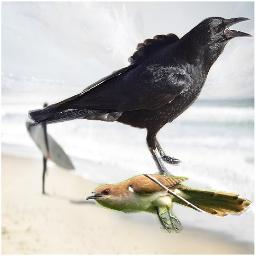Crow: (28, 15, 253, 190)
Cuckoo: (85, 174, 252, 233)
